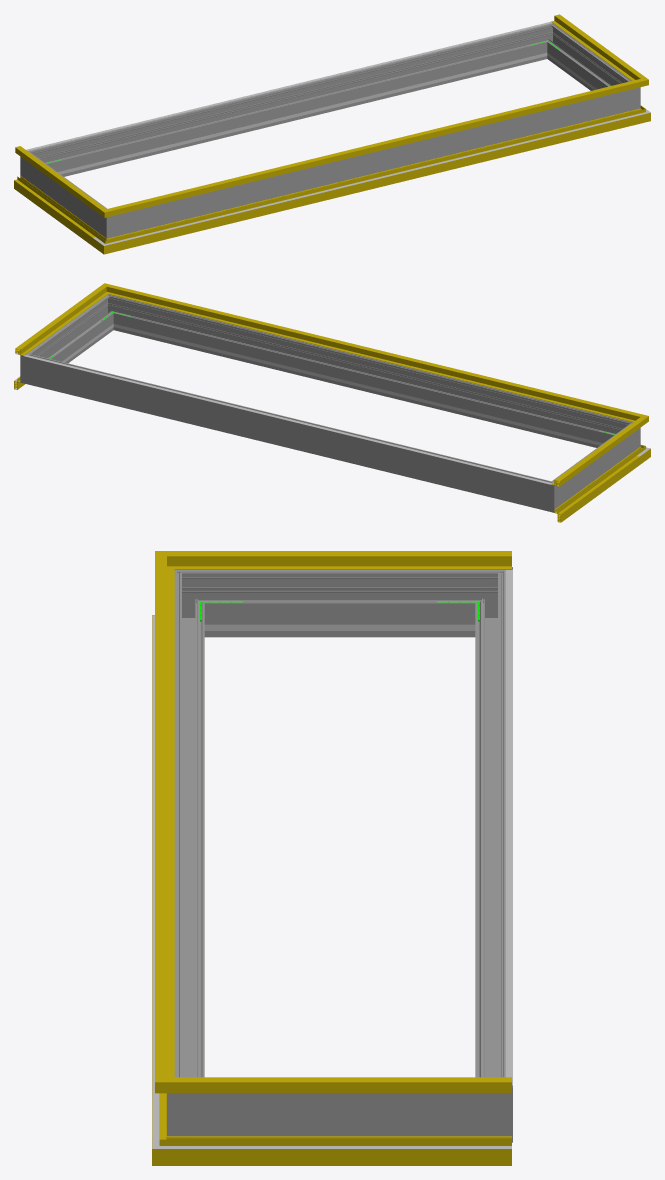
3 views of the same model, one above another, from view 1: azimuth 30°, elevation 25°; view 2: azimuth 150°, elevation 25°; view 3: azimuth 270°, elevation 25° (orthographic). The views are drawn at different scales.
Parts seen in each view (by area): view 1: 3DGeom-278, 3DGeom-300, 3DGeom-90, 3DGeom-123, 3DGeom-299, 3DGeom-246, 3DGeom-270, 3DGeom-222, 3DGeom-85, 3DGeom-100, 3DGeom-128, 3DGeom-118 (+5 smaller); view 2: 3DGeom-300, 3DGeom-278, 3DGeom-123, 3DGeom-299, 3DGeom-241, 3DGeom-270, 3DGeom-85, 3DGeom-222, 3DGeom-128, 3DGeom-118, 3DGeom-280, 3DGeom-286 (+2 smaller); view 3: 3DGeom-270, 3DGeom-278, 3DGeom-300, 3DGeom-299, 3DGeom-123, 3DGeom-97, 3DGeom-118, 3DGeom-128, 3DGeom-222, 3DGeom-292, 3DGeom-286, 3DGeom-272 (+7 smaller).
Boxes of the visible parts, x1,y1,x2,y2 form: 3DGeom-278: (41,27,543,176); 3DGeom-300: (126,92,621,233); 3DGeom-90: (120,111,631,249); 3DGeom-123: (121,82,629,212); 3DGeom-299: (549,30,626,90); 3DGeom-246: (64,57,528,173); 3DGeom-270: (31,158,101,229); 3DGeom-222: (26,22,552,150); 3DGeom-85: (14,175,98,245); 3DGeom-100: (122,116,630,241); 3DGeom-128: (551,14,637,78); 3DGeom-118: (15,146,97,209); 3DGeom-300: (117,298,619,447); 3DGeom-278: (40,357,537,507); 3DGeom-123: (119,288,629,419); 3DGeom-299: (35,301,111,363); 3DGeom-241: (132,328,596,444); 3DGeom-270: (559,429,629,500); 3DGeom-85: (554,452,639,522); 3DGeom-222: (24,355,551,484); 3DGeom-128: (15,291,101,355); 3DGeom-118: (551,423,637,486); 3DGeom-280: (534,476,565,512); 3DGeom-286: (20,348,42,387); 3DGeom-270: (212,570,467,637); 3DGeom-278: (475,586,505,1077); 3DGeom-300: (174,586,204,1077); 3DGeom-299: (212,1093,467,1136); 3DGeom-123: (155,570,174,1073); 3DGeom-97: (197,1136,511,1165); 3DGeom-118: (200,551,511,569); 3DGeom-128: (200,1077,511,1093); 3DGeom-222: (505,569,512,1085); 3DGeom-292: (167,1069,212,1136); 3DGeom-286: (468,1069,512,1142); 3DGeom-272: (174,570,212,637).
Bounding box in the file's own units: 4.27 × 0.3069 × 1.22.
